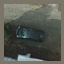car: (16, 26, 47, 43)
